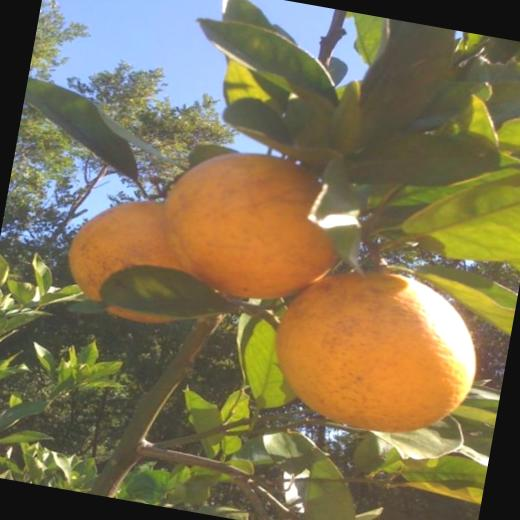Grape: (263, 248, 489, 446), (154, 136, 346, 317), (64, 190, 224, 318)
